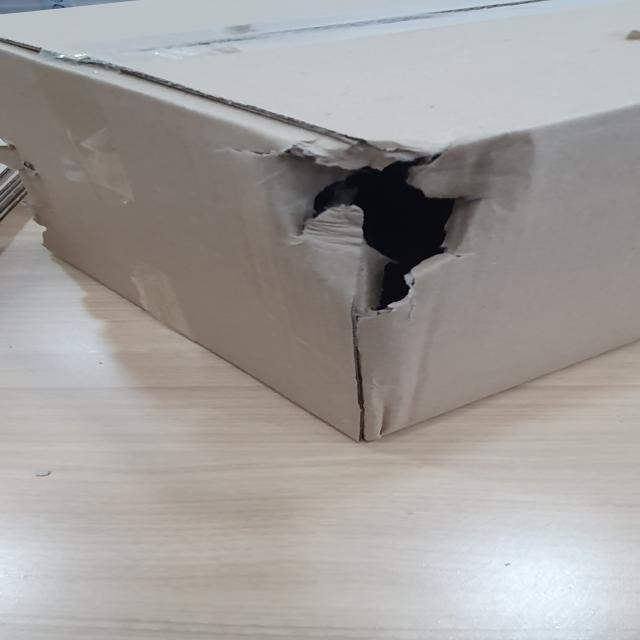hole: (249, 124, 539, 324)
